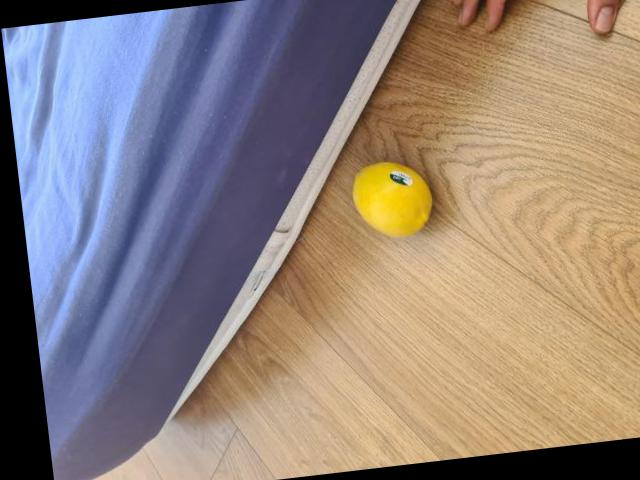lemon: (350, 155, 440, 247)
